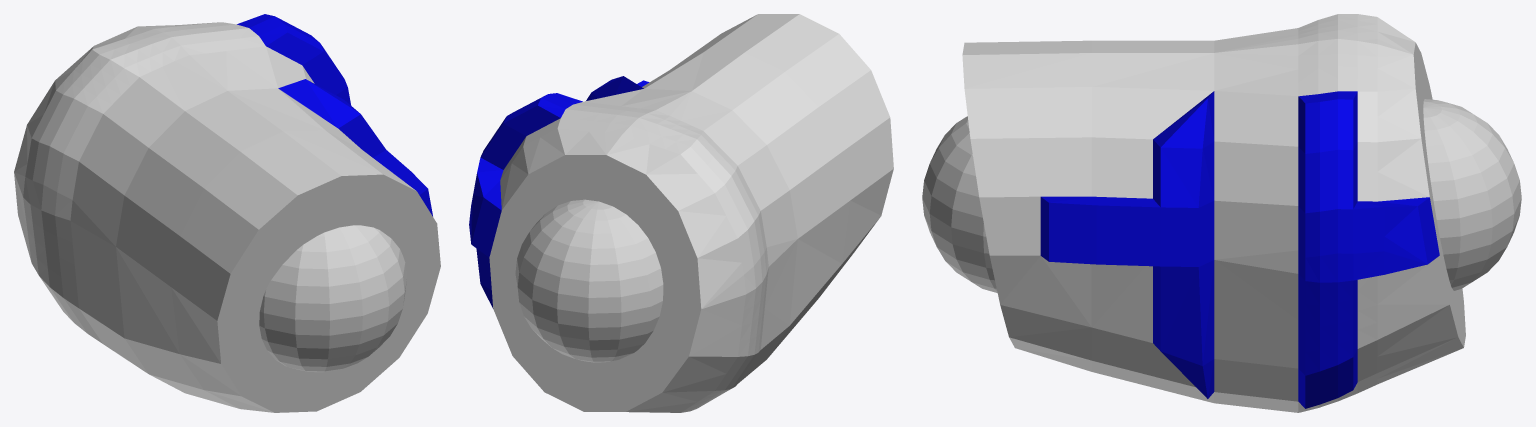
File: espinilladerecha.dae
The picture shows the model from 3 angles, left to right: view 1: azimuth 30°, elevation 25°; view 2: azimuth 150°, elevation 25°; view 3: azimuth 270°, elevation 25°; orthographic projection. The views are drawn at different scales.
Visible parts, largest first — view 1: shank_00_000, shank_00_002, shank_00_001; view 2: shank_00_000, shank_00_002, shank_00_001; view 3: shank_00_000, shank_00_001, shank_00_002.
Part boxes in pixels (box(x1,y1,x2,y2)): shank_00_000: box(14, 22, 440, 412); shank_00_002: box(259, 225, 406, 372); shank_00_001: box(237, 14, 432, 216); shank_00_000: box(489, 14, 893, 412); shank_00_002: box(515, 199, 663, 362); shank_00_001: box(469, 76, 649, 308); shank_00_000: box(962, 14, 1465, 412); shank_00_001: box(1040, 91, 1439, 408); shank_00_002: box(922, 99, 1521, 292).
Bounding box in the file's own units: 1.37 × 2.1 × 1.34.
